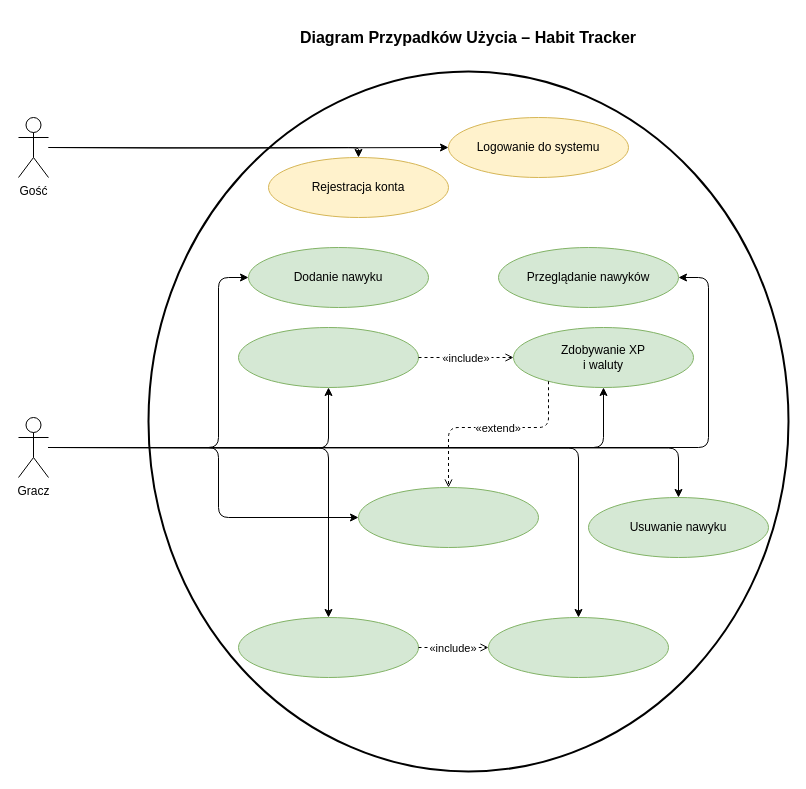
This 806x789 diagram has some shape labels left out. The centre of each missing label's shape, as x and y in pixels:
"Awansowanie na wyższy poziom" belongs at point (448, 517).
"Kupowanie nagrody" belongs at point (328, 647).
"Oznaczenie nawyku jako wykonanego" belongs at point (328, 357).
"Przeglądanie sklepu z nagrodami" belongs at point (578, 647).
